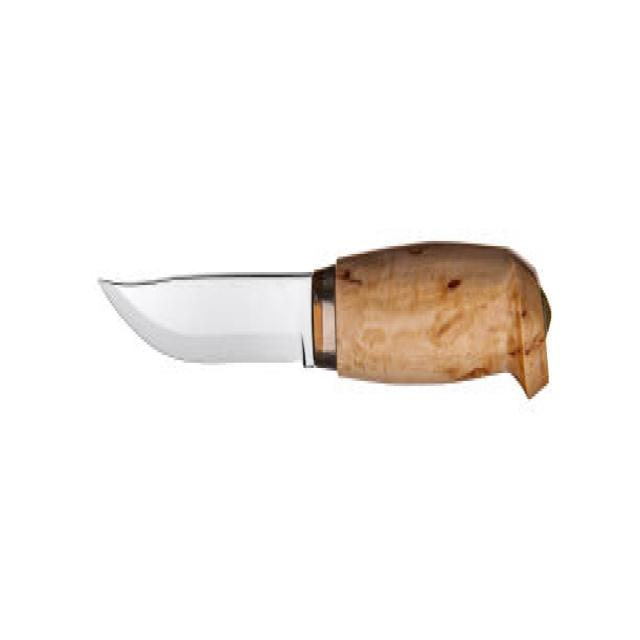knife: (92, 228, 558, 443)
